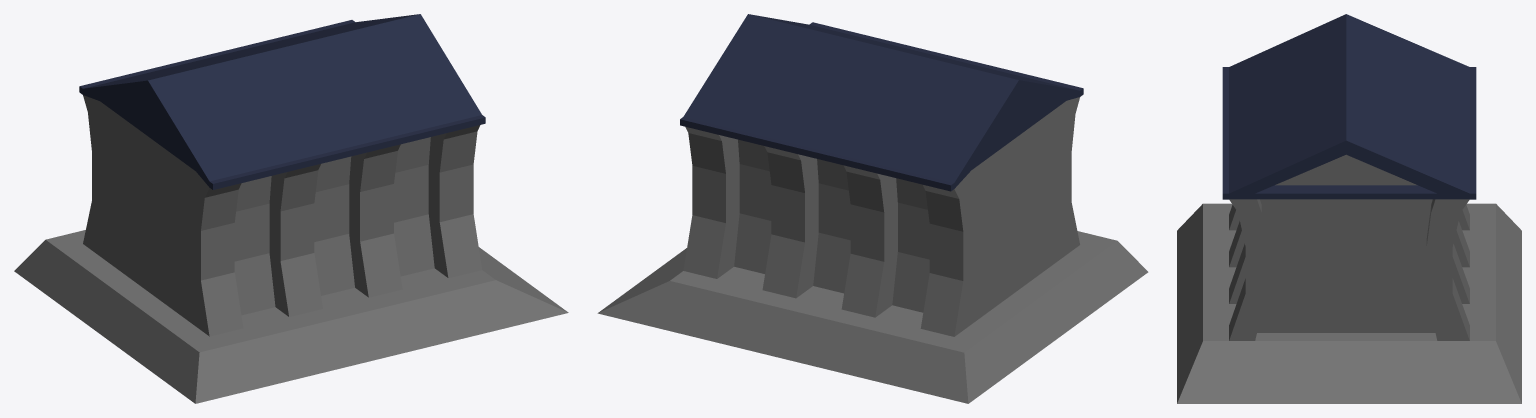
File: p-bld-background-6.glb
3 renders of one model, left to right at view 1: azimuth 30°, elevation 25°; view 2: azimuth 150°, elevation 25°; view 3: azimuth 270°, elevation 25°, orthographic. The views are drawn at different scales.
Visible parts, largest first — view 1: Cube; view 2: Cube; view 3: Cube.
Part boxes in pixels (x1,y1,x2,y2): Cube: [14, 14, 568, 403]; Cube: [597, 14, 1148, 403]; Cube: [1177, 14, 1521, 403].
Size of the model in its own units: 63 by 40 by 53.
